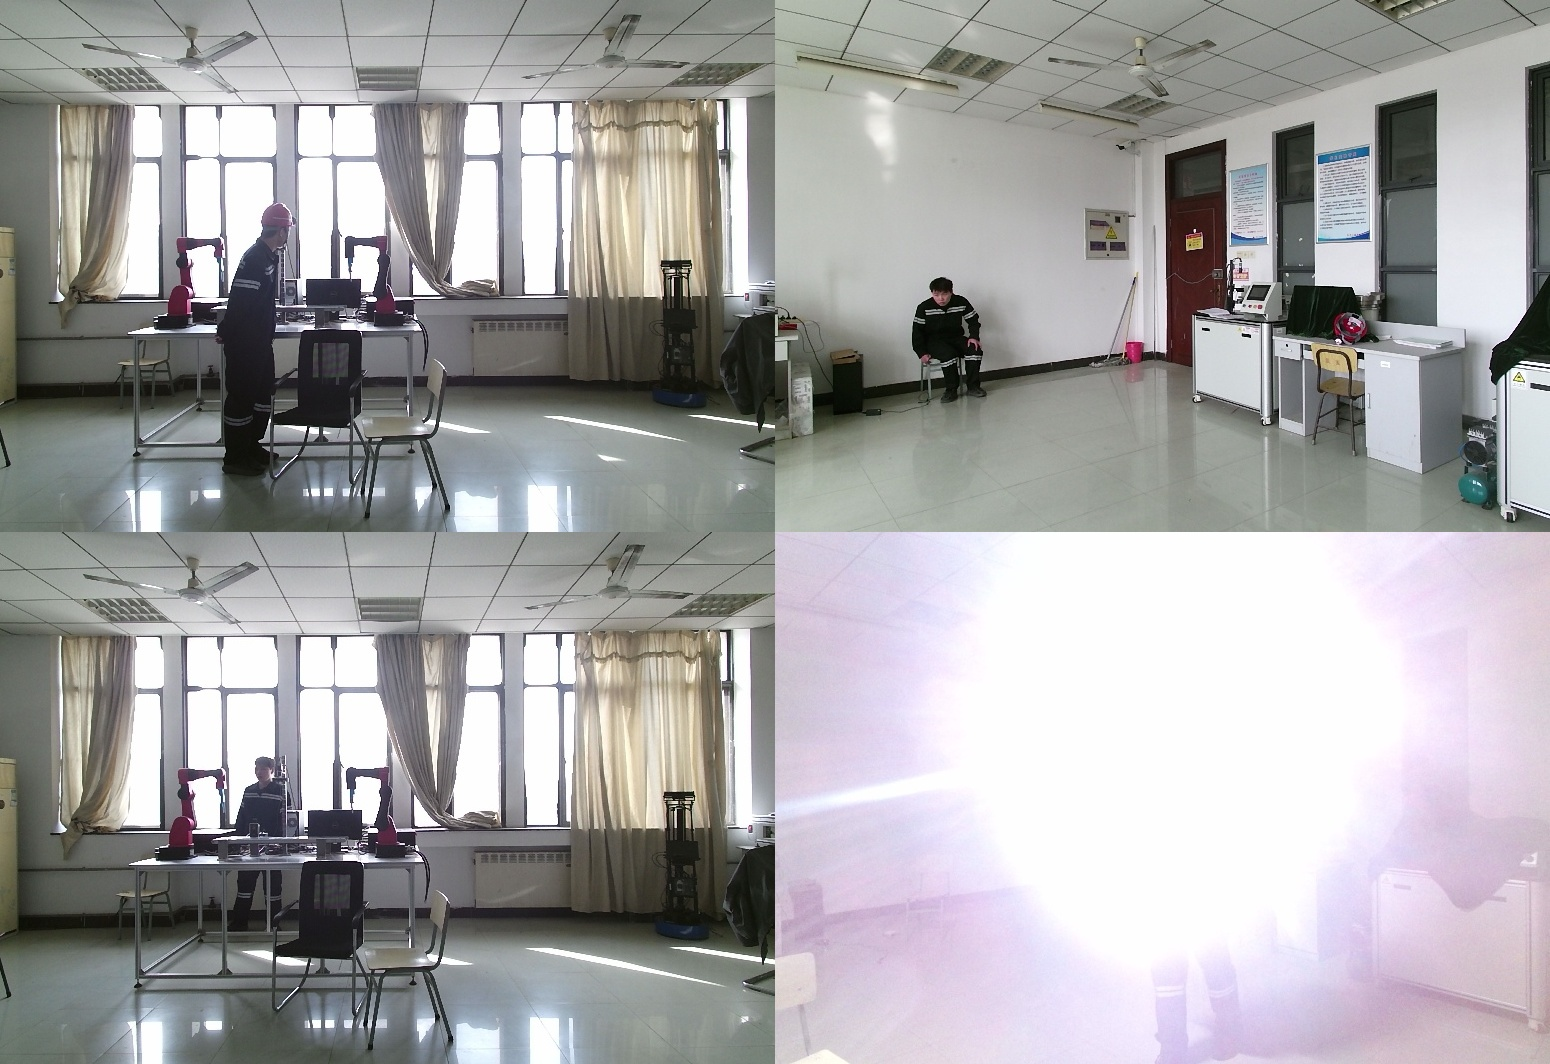person: (1137, 712, 1257, 1064), (220, 204, 293, 478), (229, 756, 297, 934), (909, 278, 989, 403)
